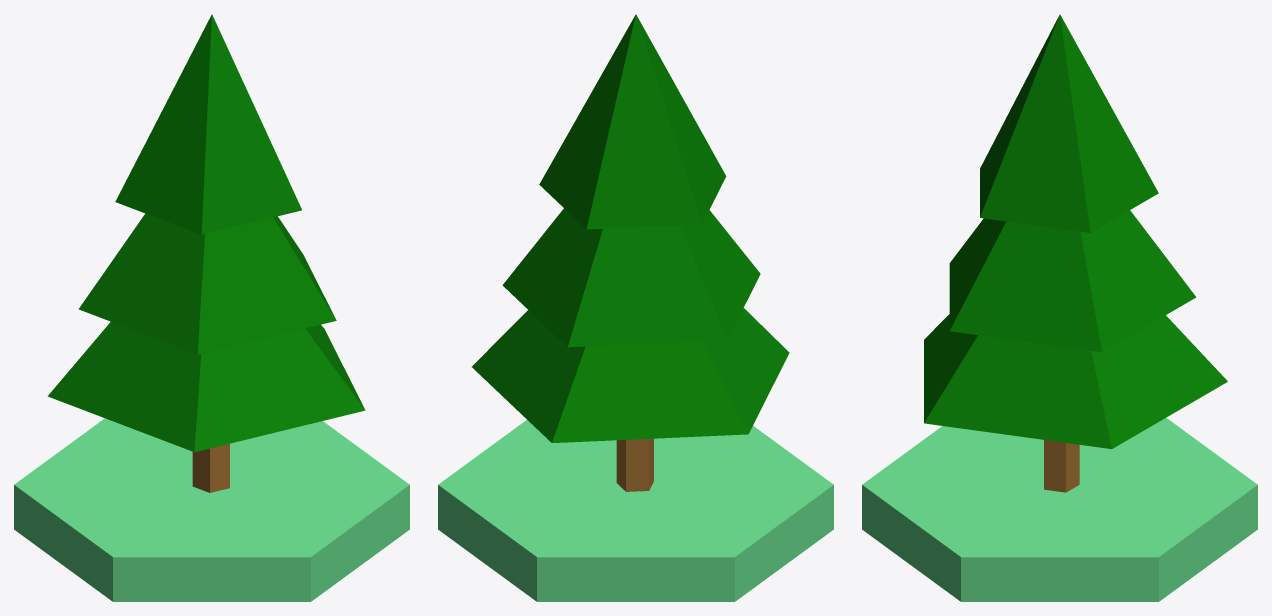
File: treeHex.fbx
3 renders of one model, left to right at view 1: azimuth 30°, elevation 25°; view 2: azimuth 150°, elevation 25°; view 3: azimuth 270°, elevation 25°, orthographic.
Visible parts, largest first — view 1: Leaves, Tile, TreeTrunk; view 2: Leaves, Tile, TreeTrunk; view 3: Leaves, Tile, TreeTrunk.
Boxes of the visible parts, x1,y1,x2,y2 form: Leaves: (47, 14, 365, 452); Tile: (14, 418, 409, 601); TreeTrunk: (192, 443, 229, 492); Leaves: (472, 14, 789, 442); Tile: (438, 420, 833, 601); TreeTrunk: (616, 438, 653, 491); Leaves: (924, 14, 1227, 449); Tile: (862, 418, 1257, 601); TreeTrunk: (1044, 440, 1079, 492).
Size of the model in its own units: 173 by 288 by 200.
